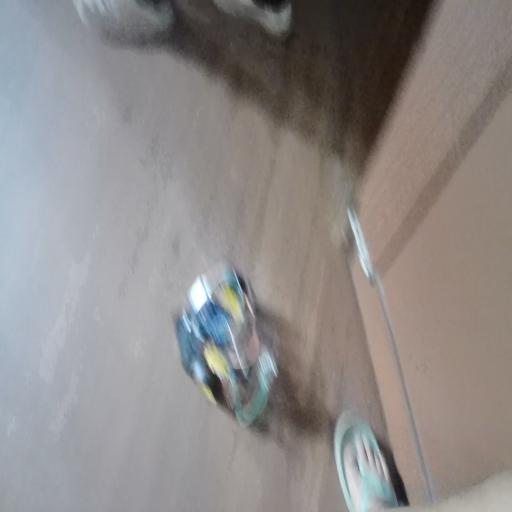car: (199, 283, 270, 421)
